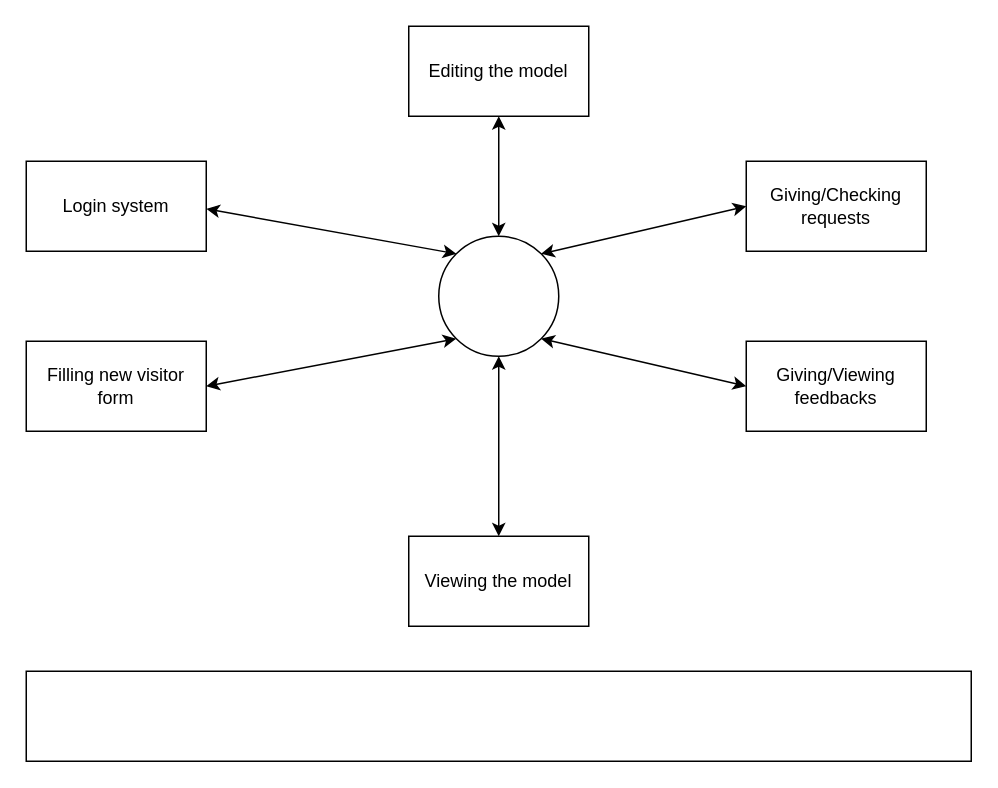
Some shapes in this 998 by 788 pixel diagram are drawn without their labels. Here are the shapes that lost their labels. From the top down, the box of each, then its label:
(437, 235, 559, 356): USKT INSIDER
(25, 670, 971, 761): DFD Diagram - USKT INSIDER
